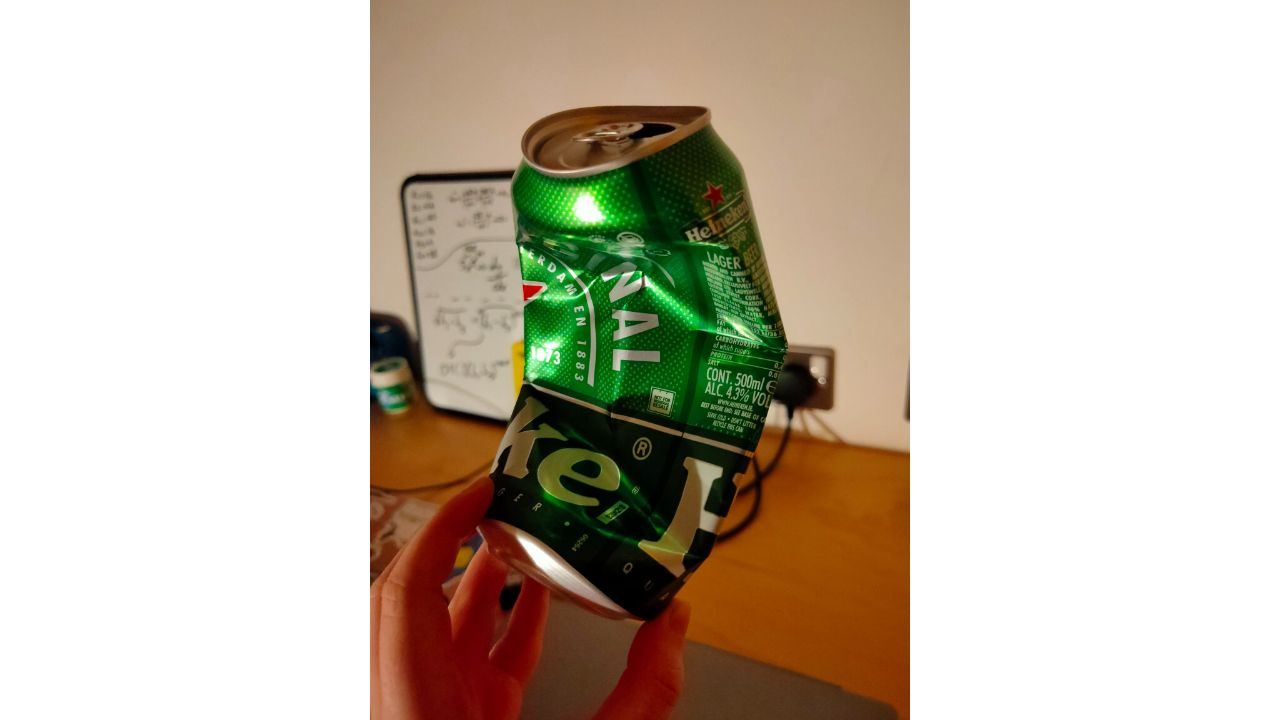Can: (485, 109, 788, 624)
